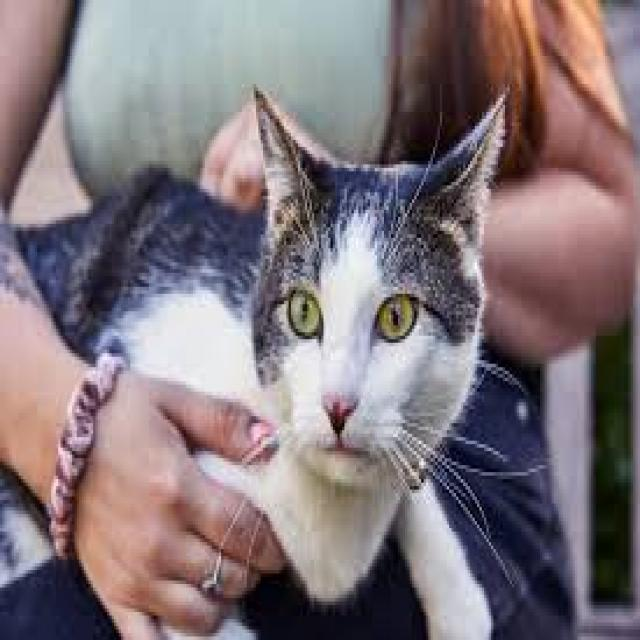Cat: (0, 79, 516, 602)
